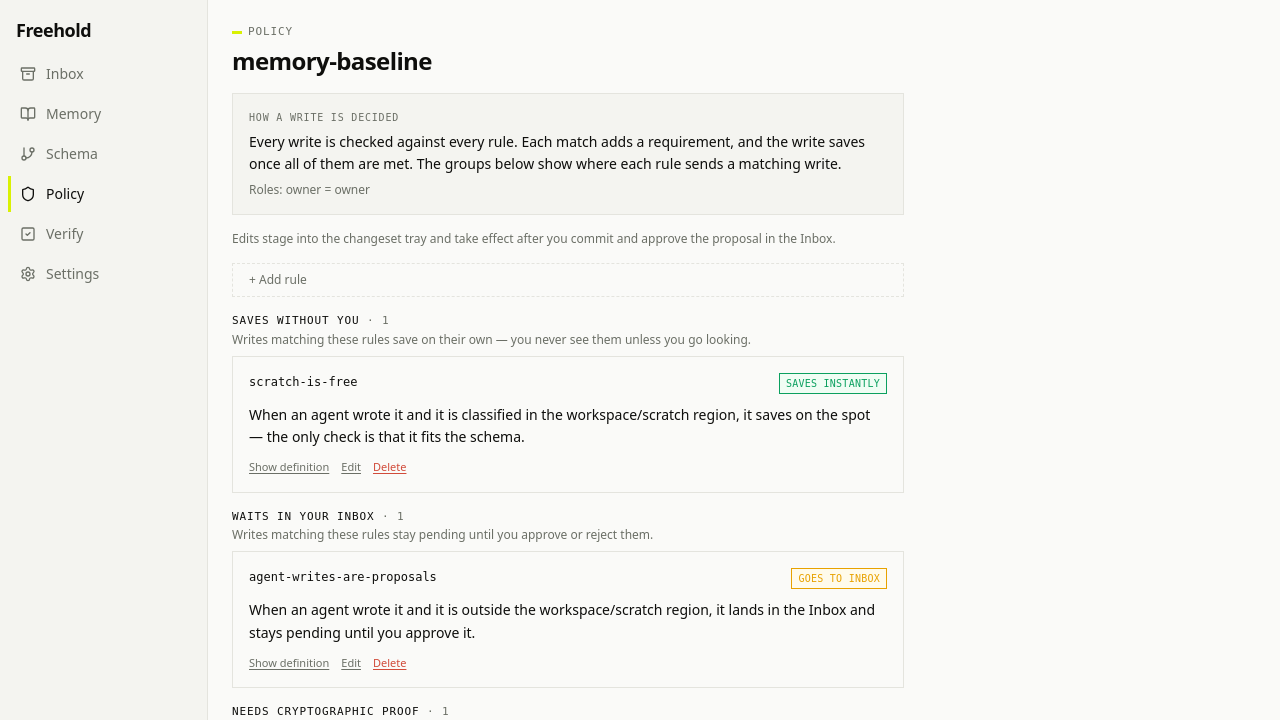
Test case: Policy structured editor + staging › add-path: pressing Enter in the path input also adds a chip
The width and height of the screenshot is (1280, 720).
Click the button with test id "edit-rule-scratch-is-free" at x=351, y=467, box [341,459,361,476]
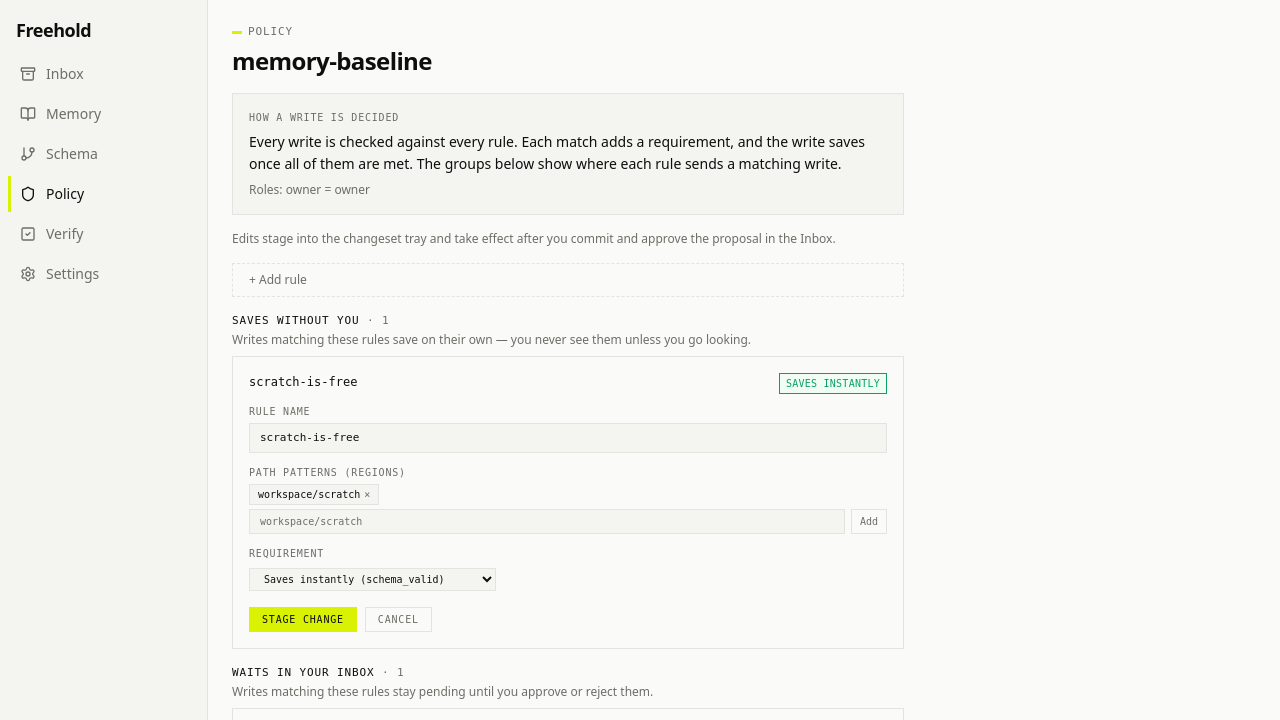
Type "workspace/archive" into the field named "Path pattern" at x=547, y=522, box [249,509,845,534]
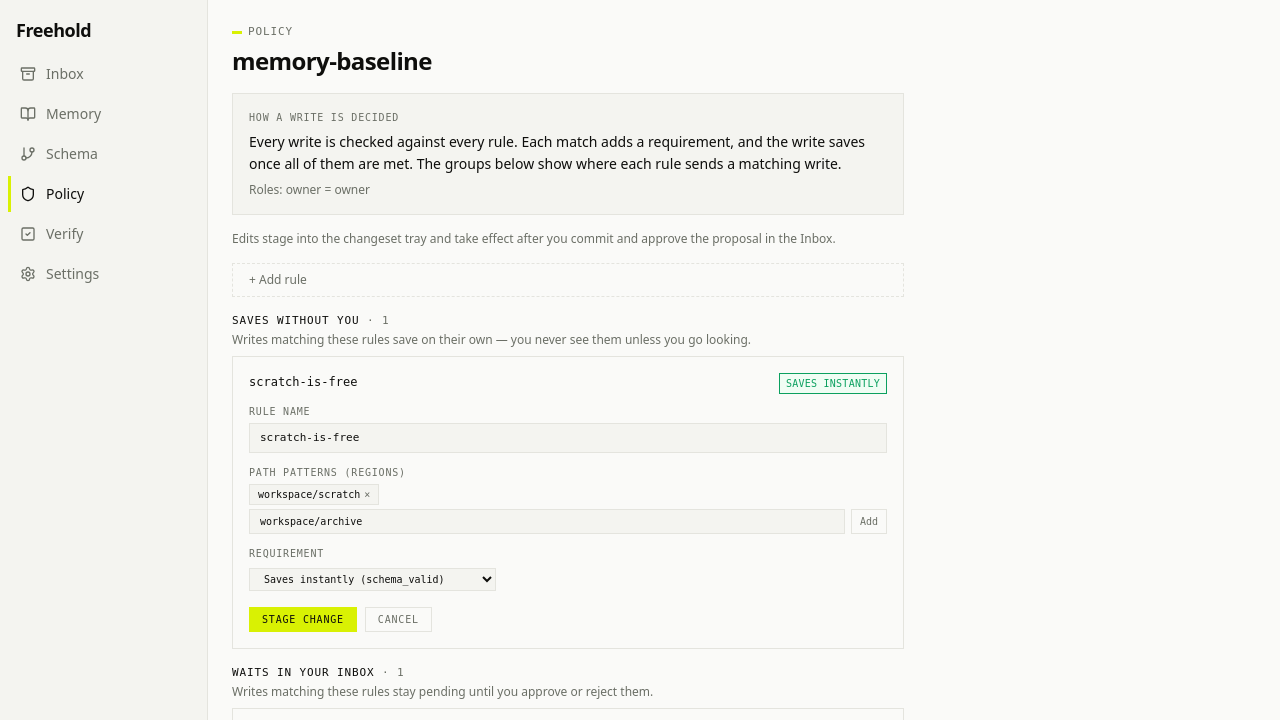
Press Enter in the field named "Path pattern", box [249,509,845,534]
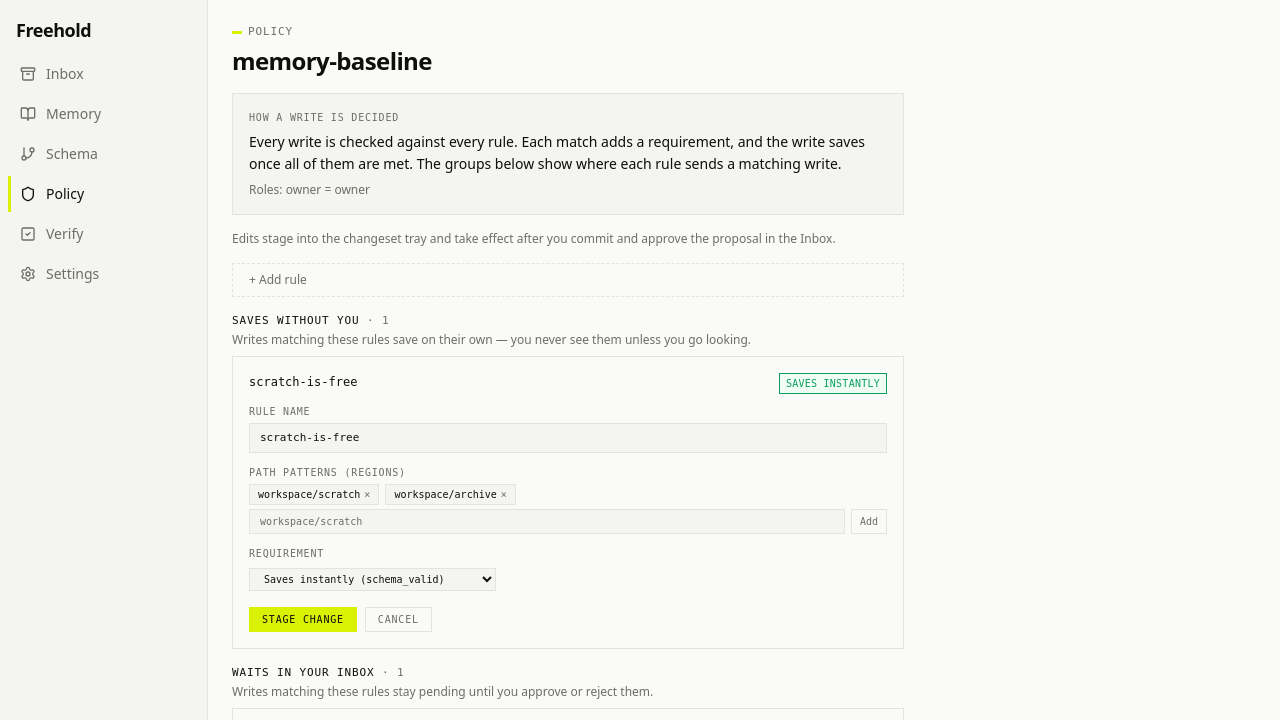
Result: the text "workspace/archive" is shown at [394,489,497,500]
Result: the field named "Path pattern" is empty at [249,509,845,534]
